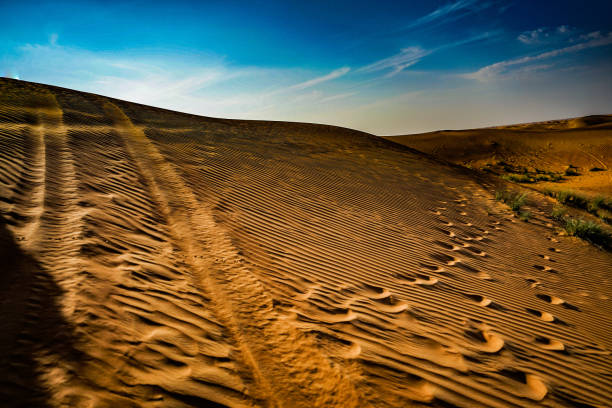vehicle_track: (0, 79, 611, 407), (104, 102, 359, 406), (58, 94, 261, 407), (2, 91, 80, 403), (30, 93, 82, 316)
